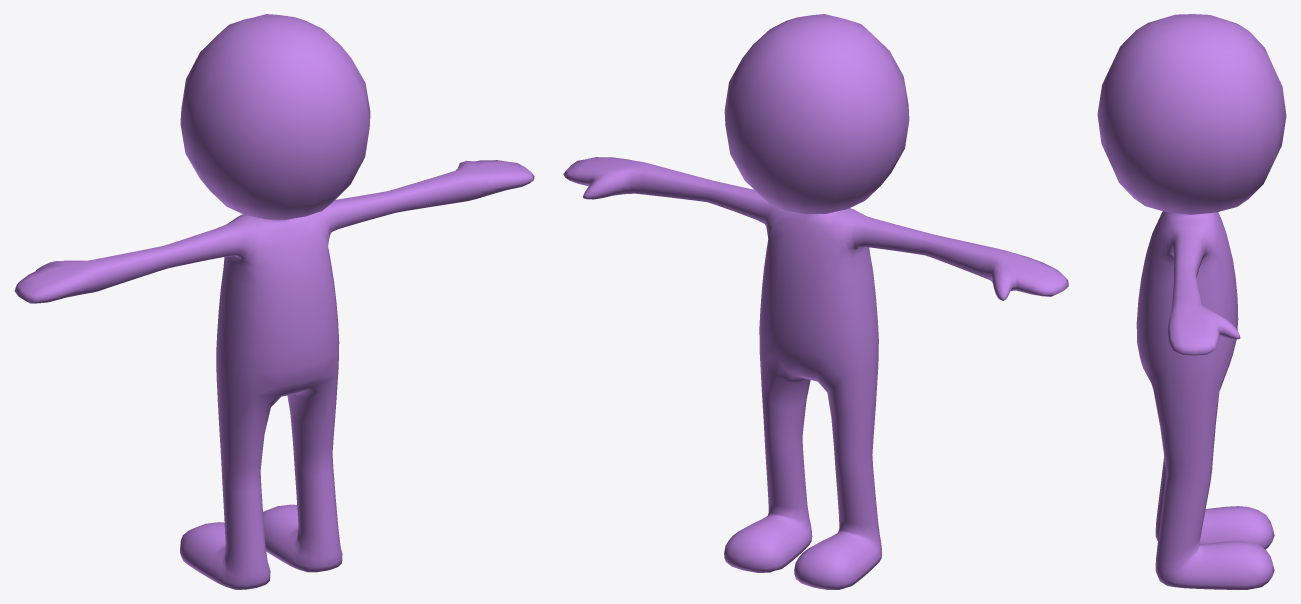
Rendered from stickman.fbx.
The picture shows the model from 3 angles, left to right: view 1: azimuth 30°, elevation 25°; view 2: azimuth 150°, elevation 25°; view 3: azimuth 270°, elevation 25°; orthographic projection. The views are drawn at different scales.
Parts seen in each view (by area): view 1: stickman; view 2: stickman; view 3: stickman.
Boxes of the visible parts, <box> form: stickman: <box>14,14,534,589</box>; stickman: <box>563,14,1068,589</box>; stickman: <box>1097,14,1286,589</box>.
Size of the model in its own units: 180 by 183 by 58.17.
